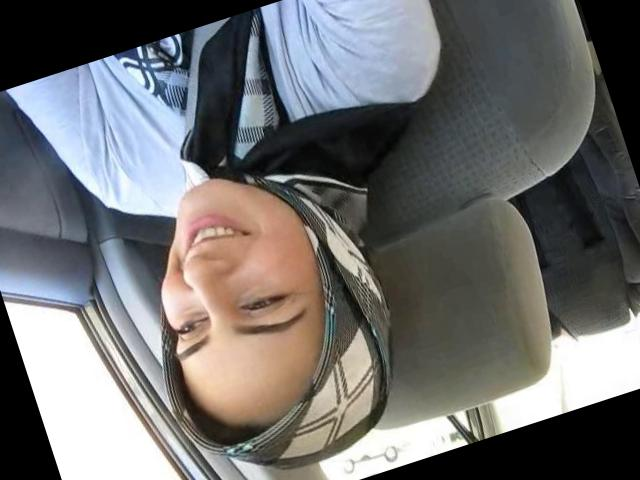eye_open: (234, 284, 294, 320), (170, 312, 207, 343)
face: (123, 158, 332, 390)
